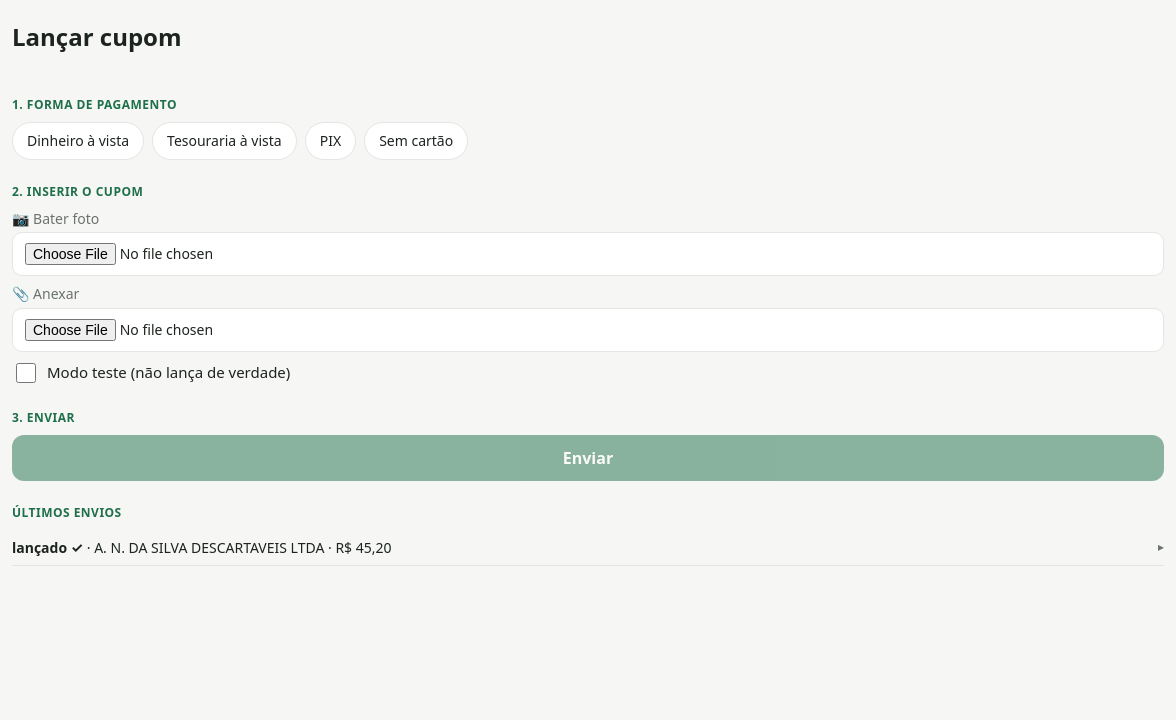
Cupom — aviso de CNPJ lido errado no detalhe do cupom › detalhe aberto de um cupom com CNPJ que não fecha as contas: aviso amarelo com o CNPJ lido e o que fazer; a linha do fornecedor segue igual
Click the button "lançado ✓ · A. N. DA SILVA DESCARTAVEIS LTDA · R$ 45,20 ▸" at (48, 547), box [12,530,1164,565]
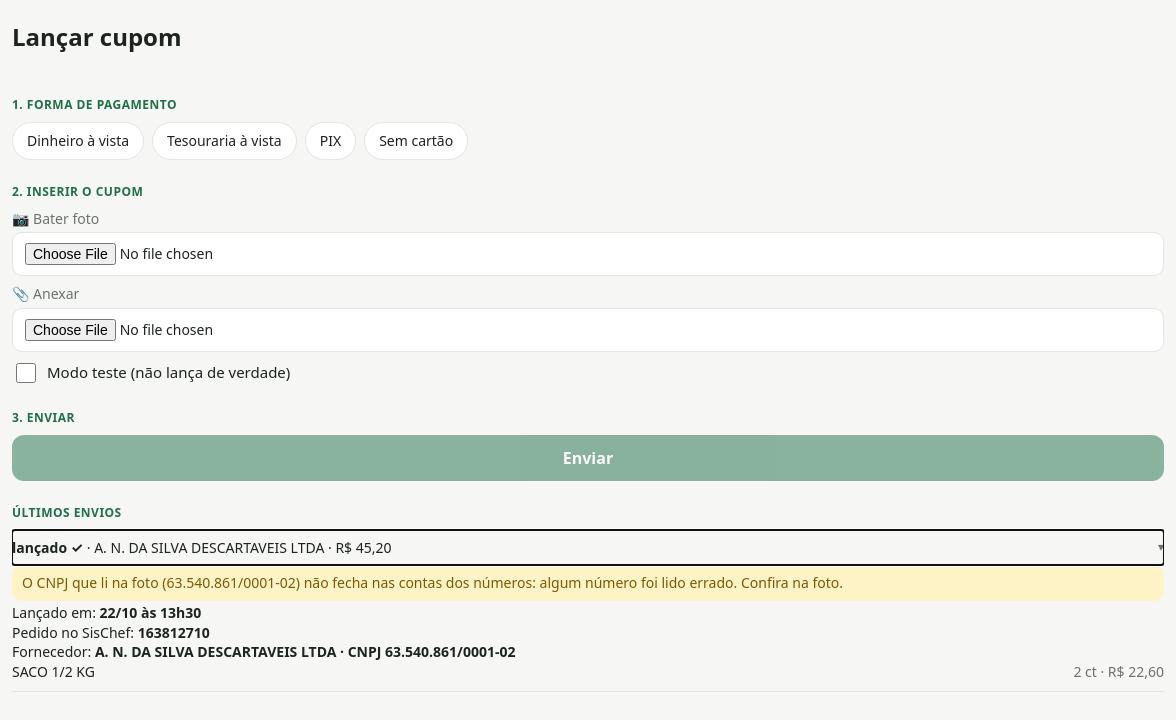
Now the text with test id "cnpj-suspeito" shows "O CNPJ que li na foto (63.540.861/0001-02) não fecha nas contas dos números: algum número foi lido errado. Confira na foto.", box [12,565,1164,601]
